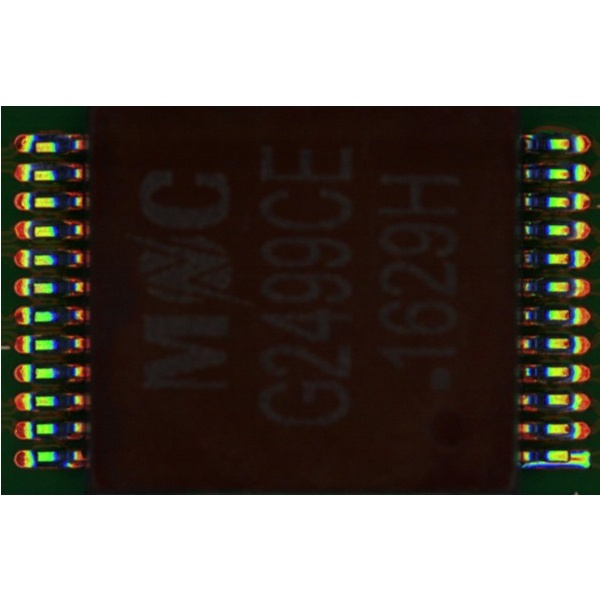Bad_podu: (561, 455, 582, 462)
Bad_qiaojiao: (521, 461, 568, 470)
